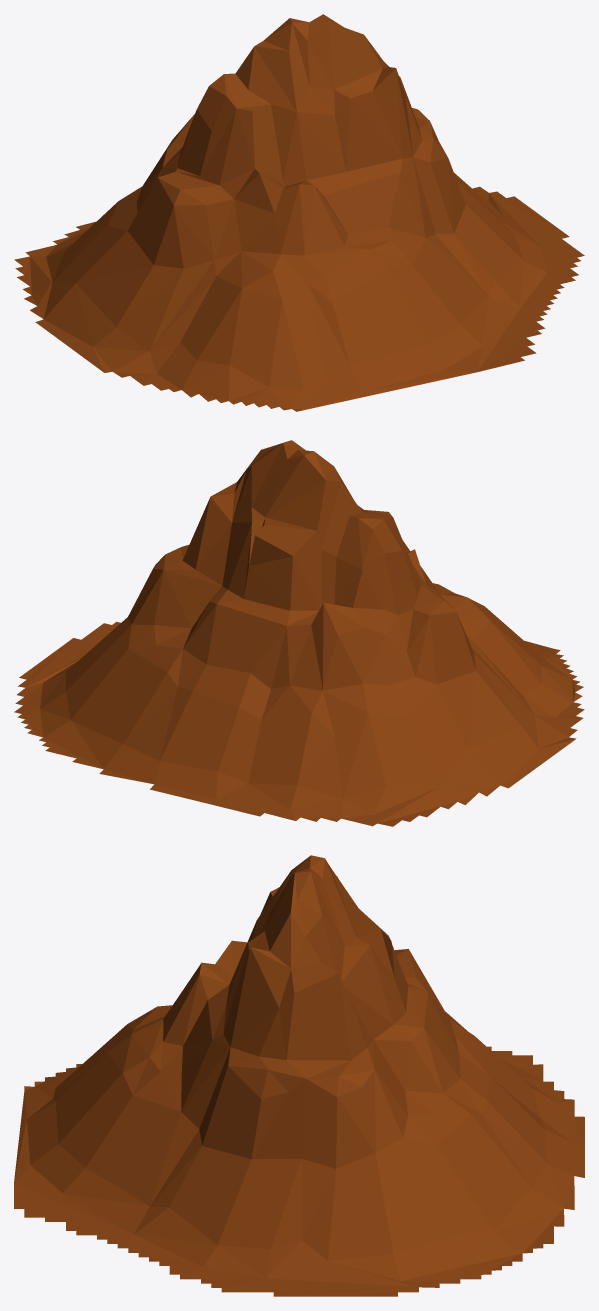
Rendered from Mountain_1_Snow_LOD_Medium.glb.
3 renders of one model, top to bottom at view 1: azimuth 30°, elevation 25°; view 2: azimuth 150°, elevation 25°; view 3: azimuth 270°, elevation 25°, orthographic. The views are drawn at different scales.
Parts seen in each view (by area): view 1: Mountain_1_Snow_LOD_Medium.001; view 2: Mountain_1_Snow_LOD_Medium.001; view 3: Mountain_1_Snow_LOD_Medium.001.
Part boxes in pixels (bbox=[...]): Mountain_1_Snow_LOD_Medium.001: bbox=[14, 14, 584, 411]; Mountain_1_Snow_LOD_Medium.001: bbox=[14, 440, 584, 826]; Mountain_1_Snow_LOD_Medium.001: bbox=[14, 855, 584, 1296].
Bounding box in the file's own units: 107 × 56.16 × 96.69.
